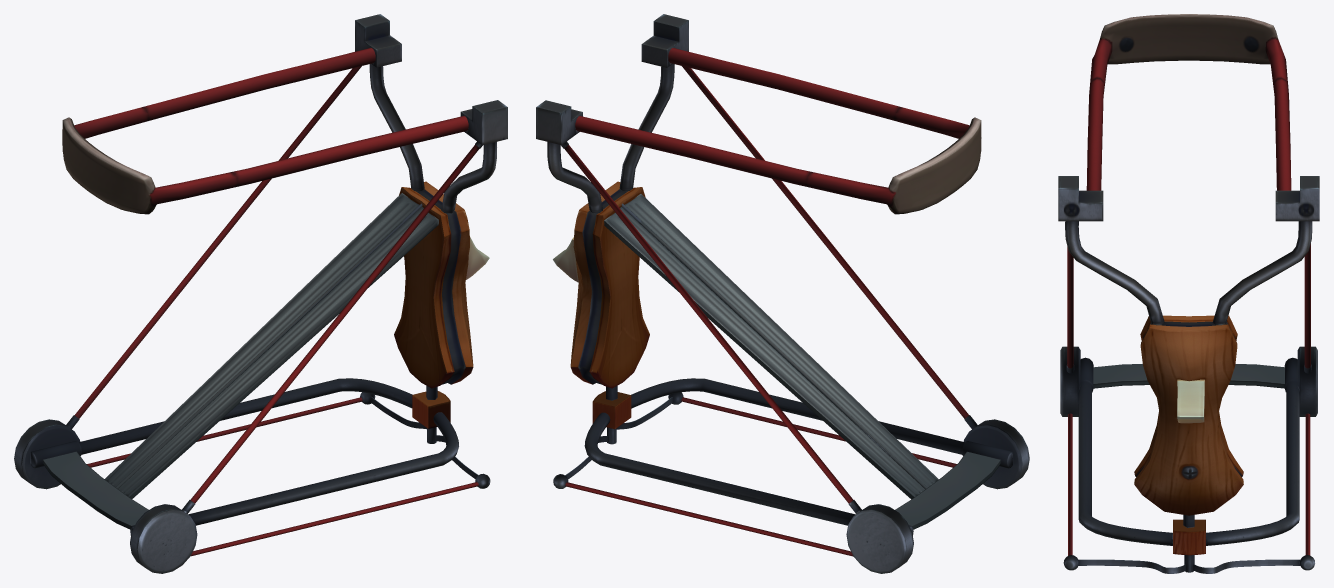
File: resorteraAutomatica_estiramientoestirando.fbx
3 renders of one model, left to right at view 1: azimuth 30°, elevation 25°; view 2: azimuth 150°, elevation 25°; view 3: azimuth 270°, elevation 25°, orthographic. The views are drawn at different scales.
Visible parts, largest first — view 1: Agarrador_Low, resortera_base_Low; view 2: Agarrador_Low, resortera_base_Low; view 3: Agarrador_Low, resortera_base_Low, Gatillo_Low.
Boxes of the visible parts, <box> form: Agarrador_Low: <box>14,14,507,573</box>; resortera_base_Low: <box>62,48,468,214</box>; Agarrador_Low: <box>536,14,1029,573</box>; resortera_base_Low: <box>575,48,981,214</box>; Agarrador_Low: <box>1058,176,1319,573</box>; resortera_base_Low: <box>1086,14,1291,190</box>; Gatillo_Low: <box>1177,379,1204,423</box>.
Bounding box in the file's own units: 25.24 × 22.68 × 13.63.
Materials: 1 (1 with a texture image).
